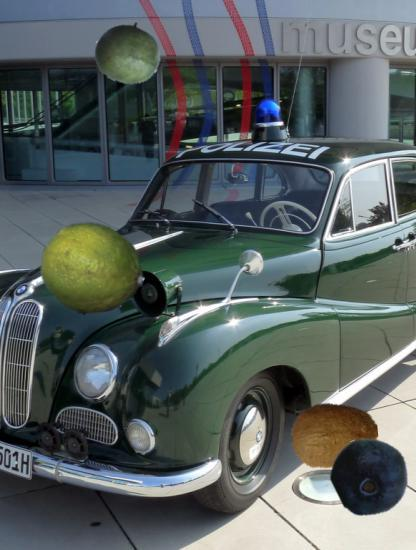Blueberry: (331, 436, 411, 516)
Kiwi: (288, 390, 379, 481)
Limes: (40, 217, 145, 322)
Mango: (95, 20, 162, 87)
